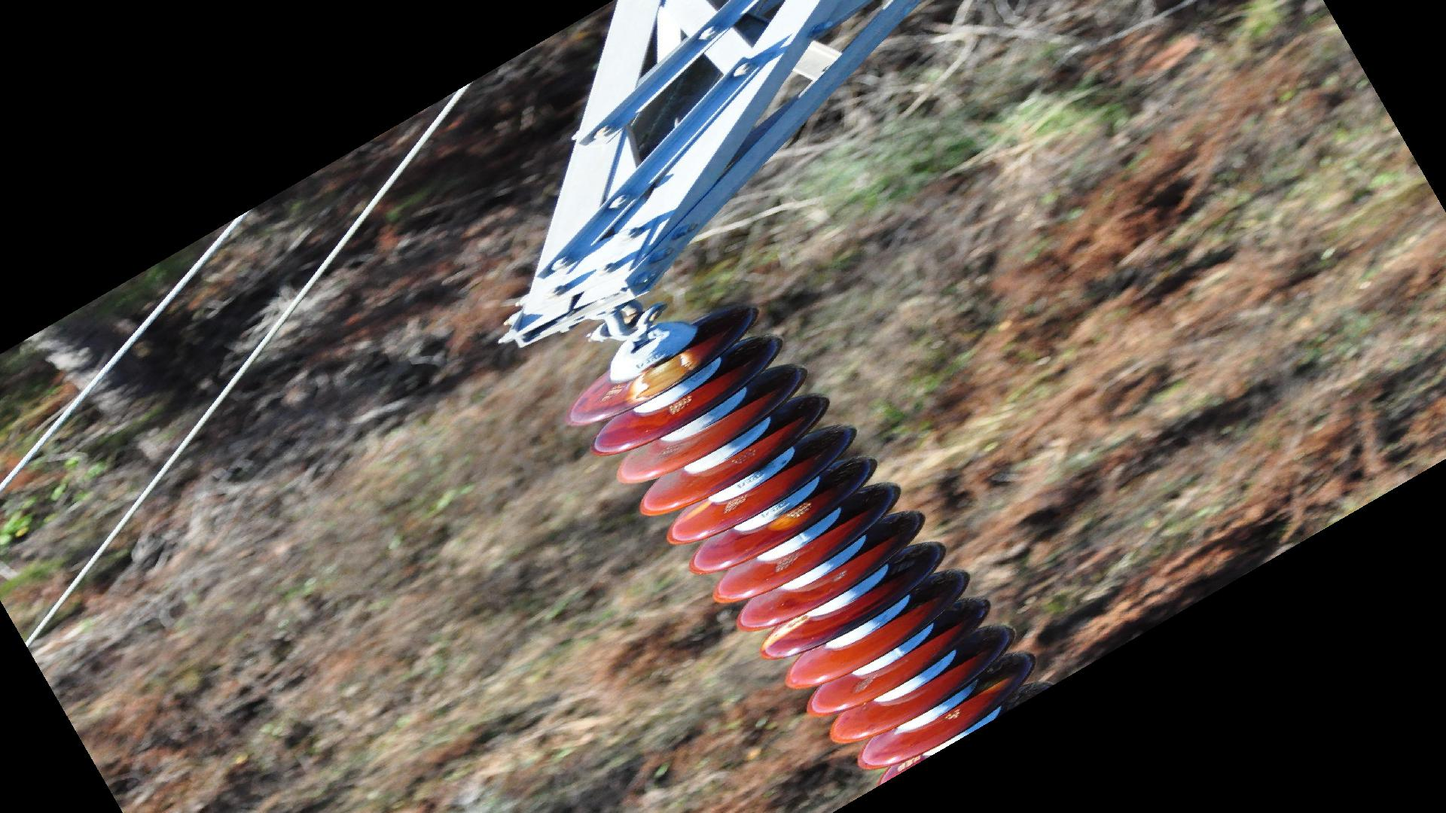insulator: (561, 297, 1054, 793)
insulator_flashover: (625, 347, 693, 406), (754, 611, 812, 653), (764, 499, 819, 533)
